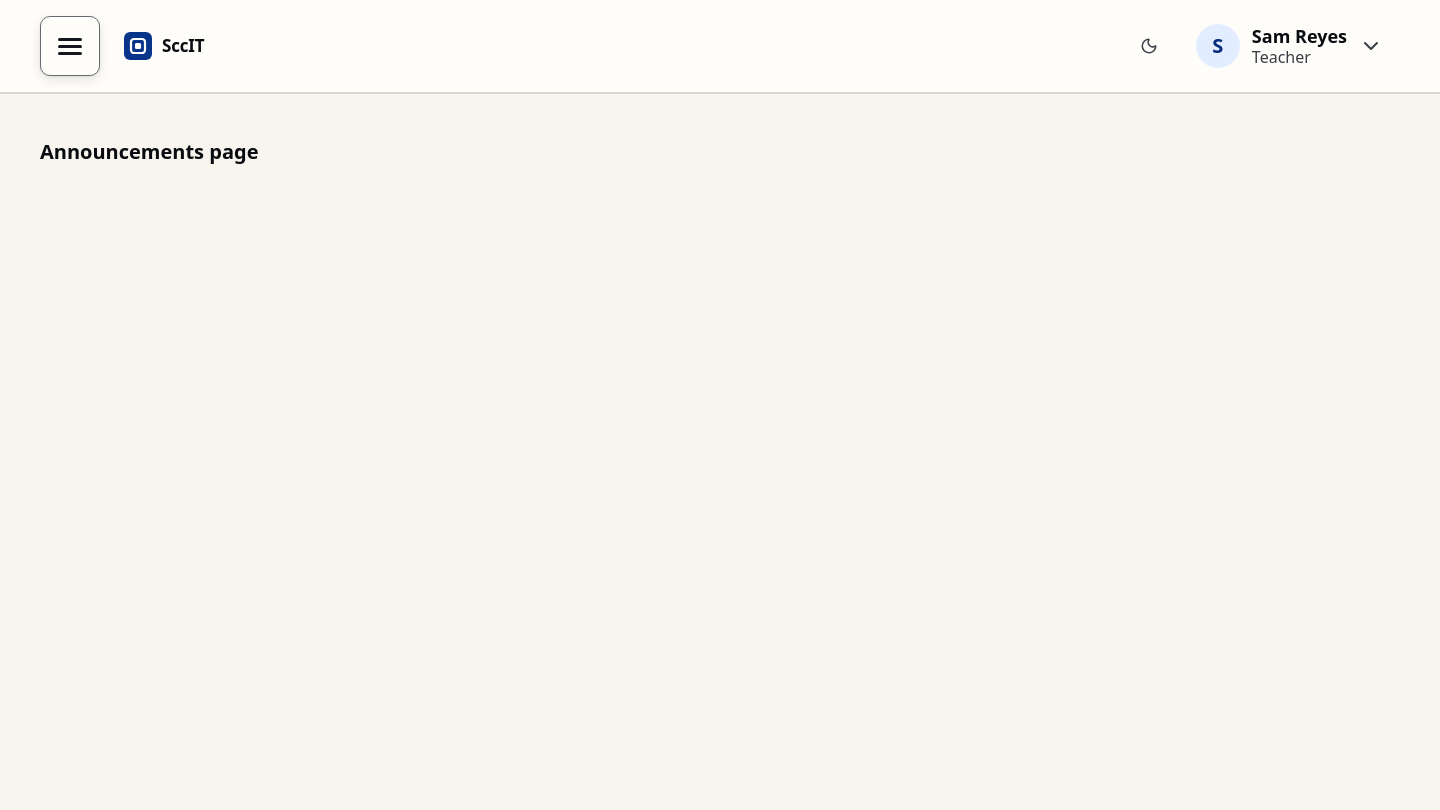
the navigation inside it › marks the current page, and only that page
Click the button named "open navigation menu".
click(70, 46)  # box [40, 16, 100, 76]
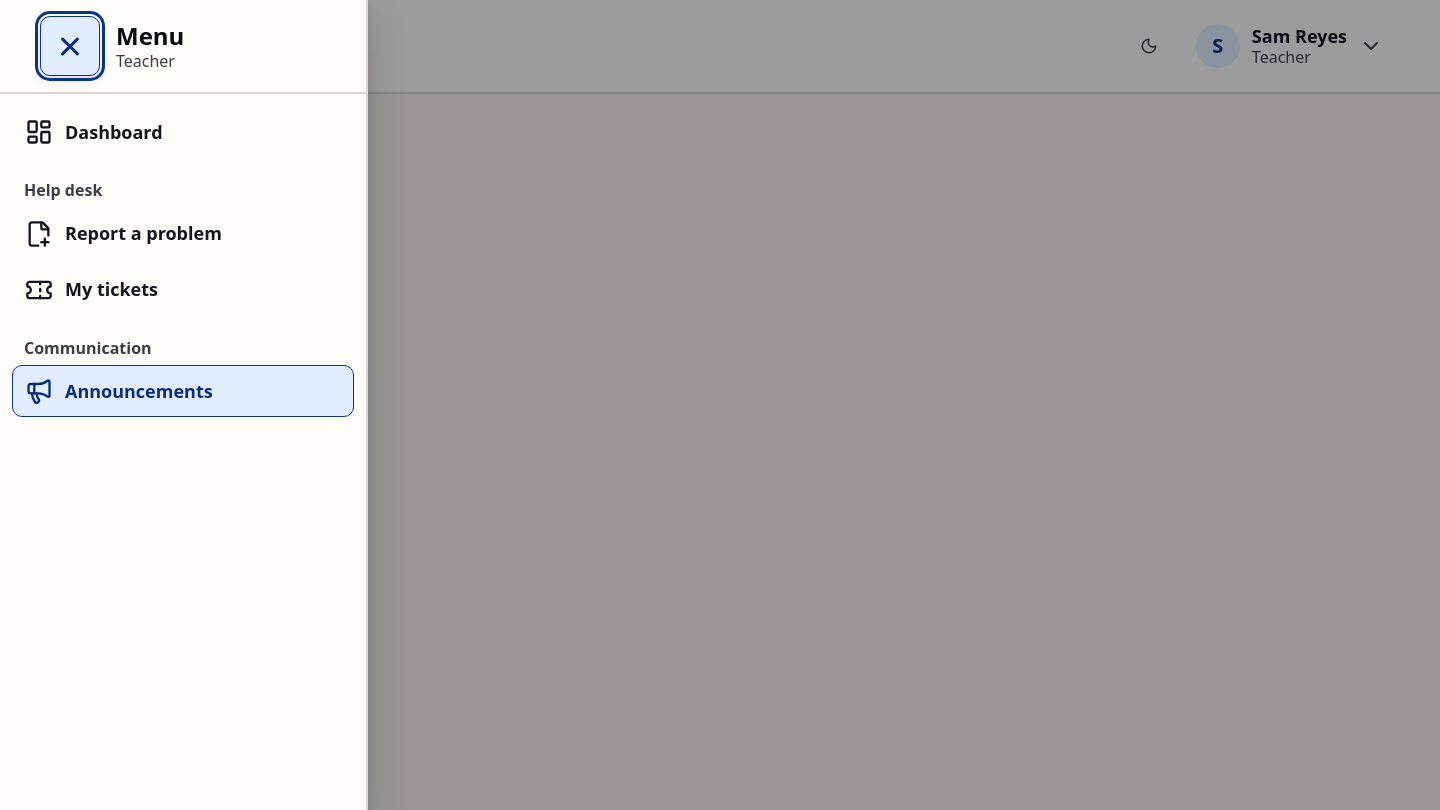
Check: the link "Announcements" is shown, box [12, 365, 354, 417]
